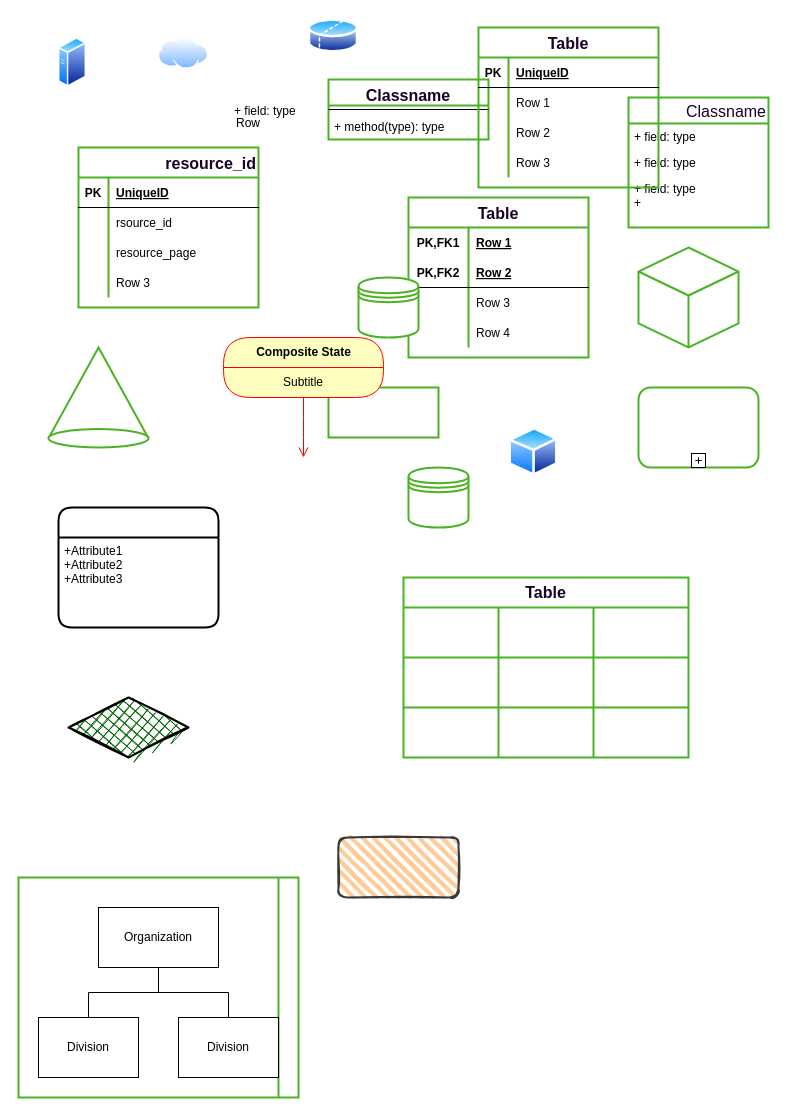
Image size: 786x1115. Some labels were removed from this diagram. The shapes that lost their labels are listed below. From the top down, each one's box as (x1, y1, x2, y2) in pixels, then its label:
(327, 386, 439, 438): Object
(637, 386, 759, 468): Sub-Process
(57, 506, 219, 628): Entity
(337, 836, 459, 898): 你啊
(17, 876, 299, 1098): Orgchart
